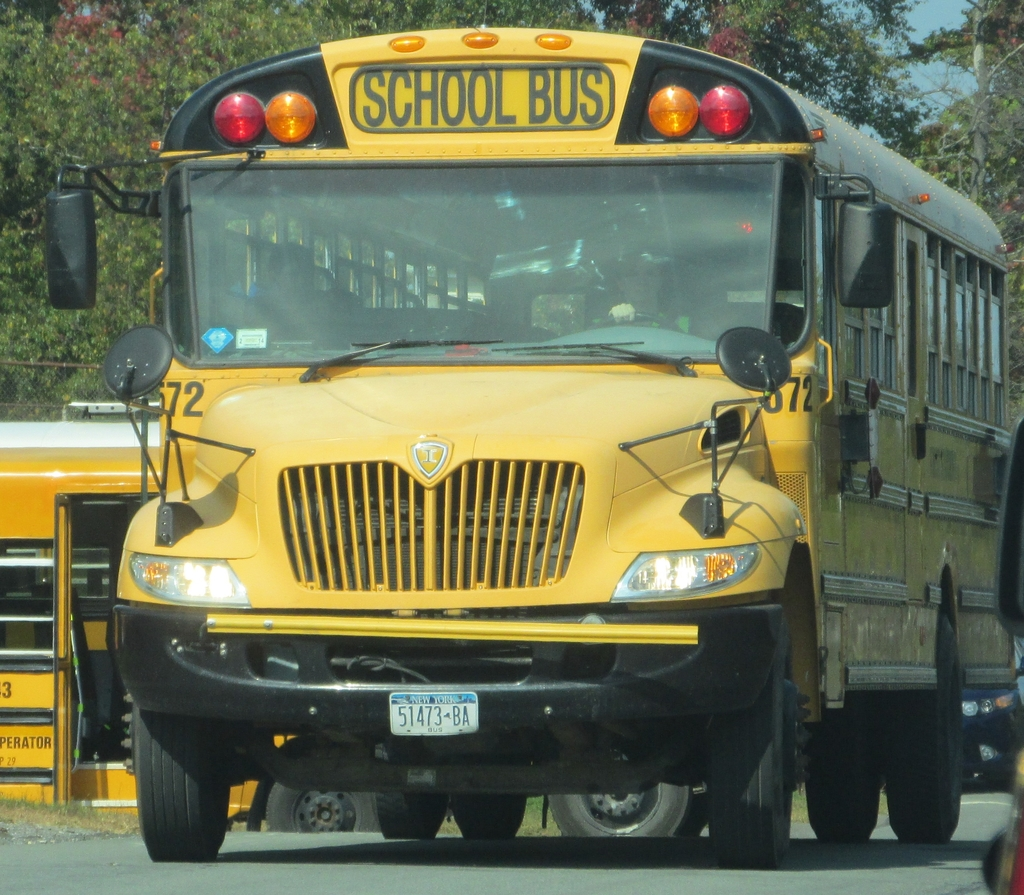Bus: (40, 24, 1006, 855), (0, 416, 384, 809)
